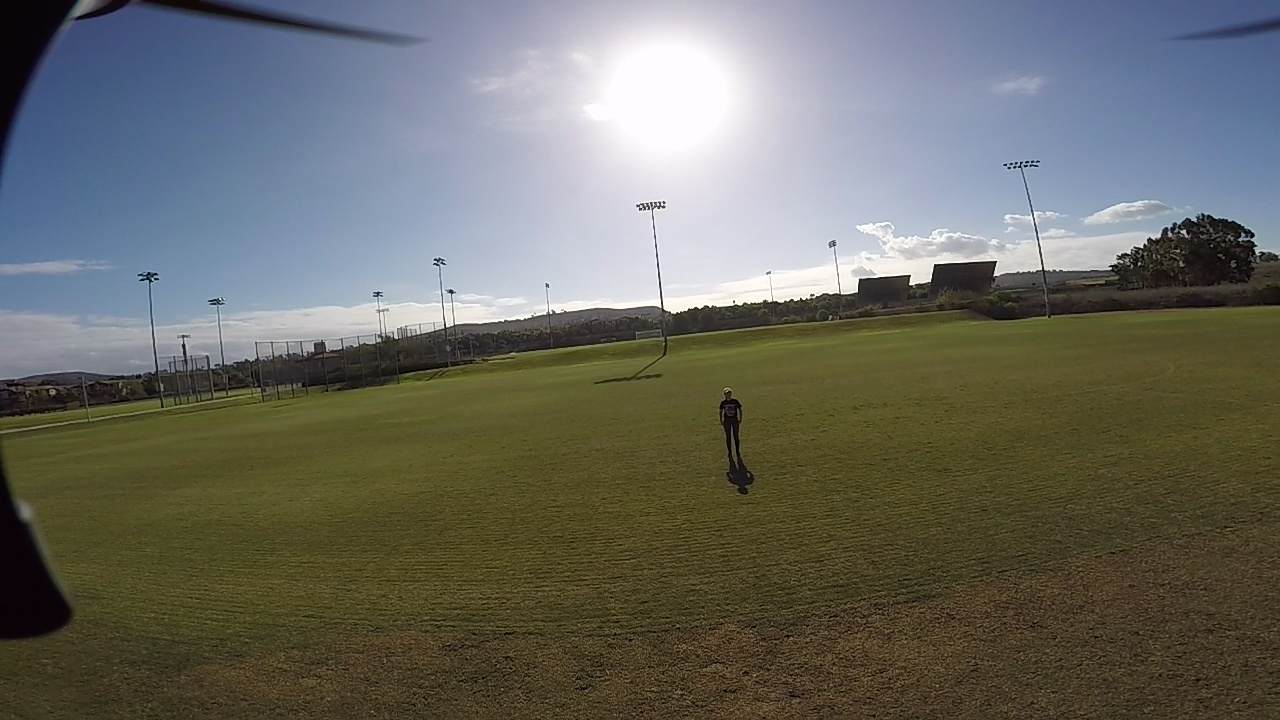person: (715, 379, 749, 486)
